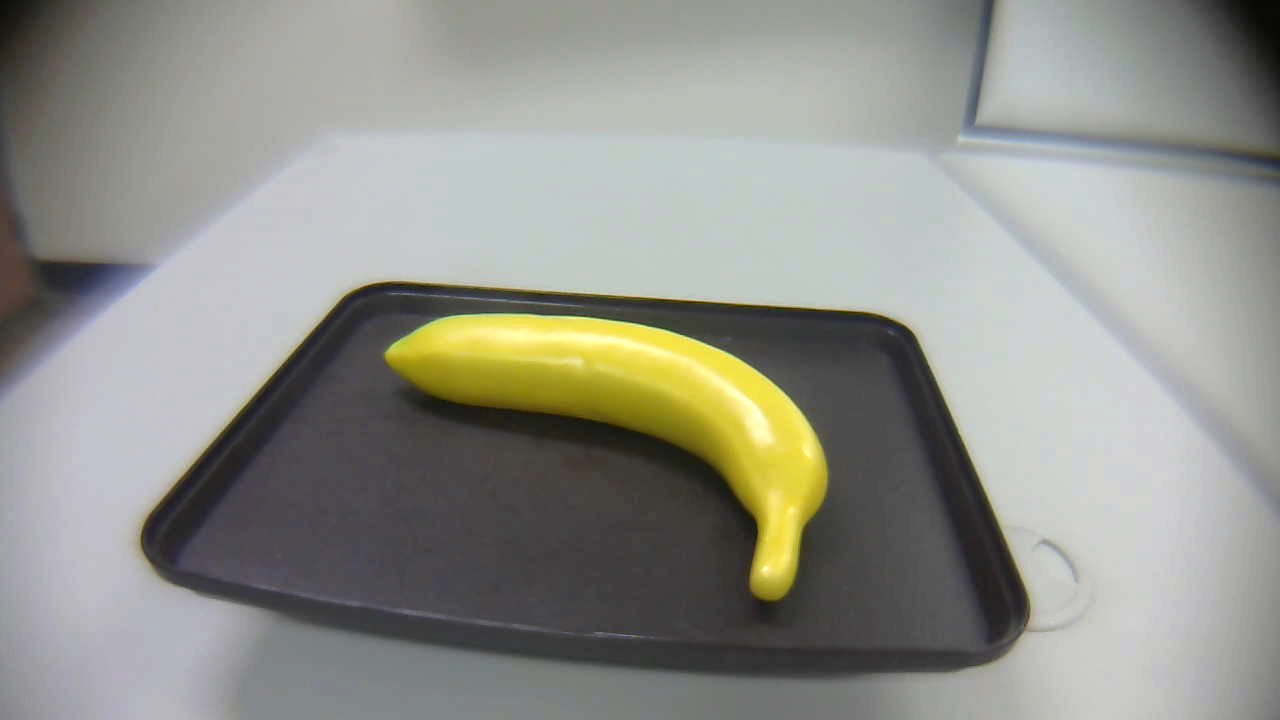banana: (378, 306, 836, 616)
